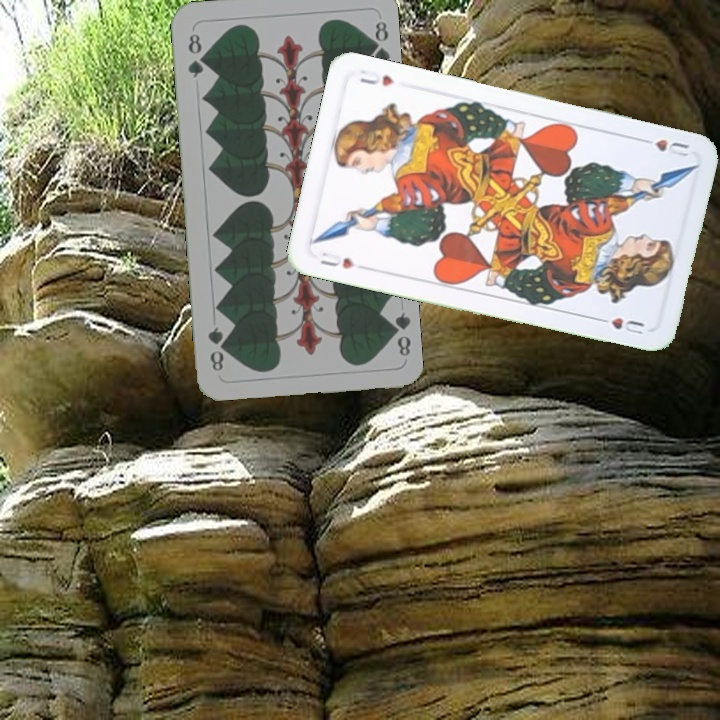G8: (385, 308, 413, 359), (183, 29, 207, 81)
HU: (635, 134, 693, 160), (315, 248, 357, 272)
